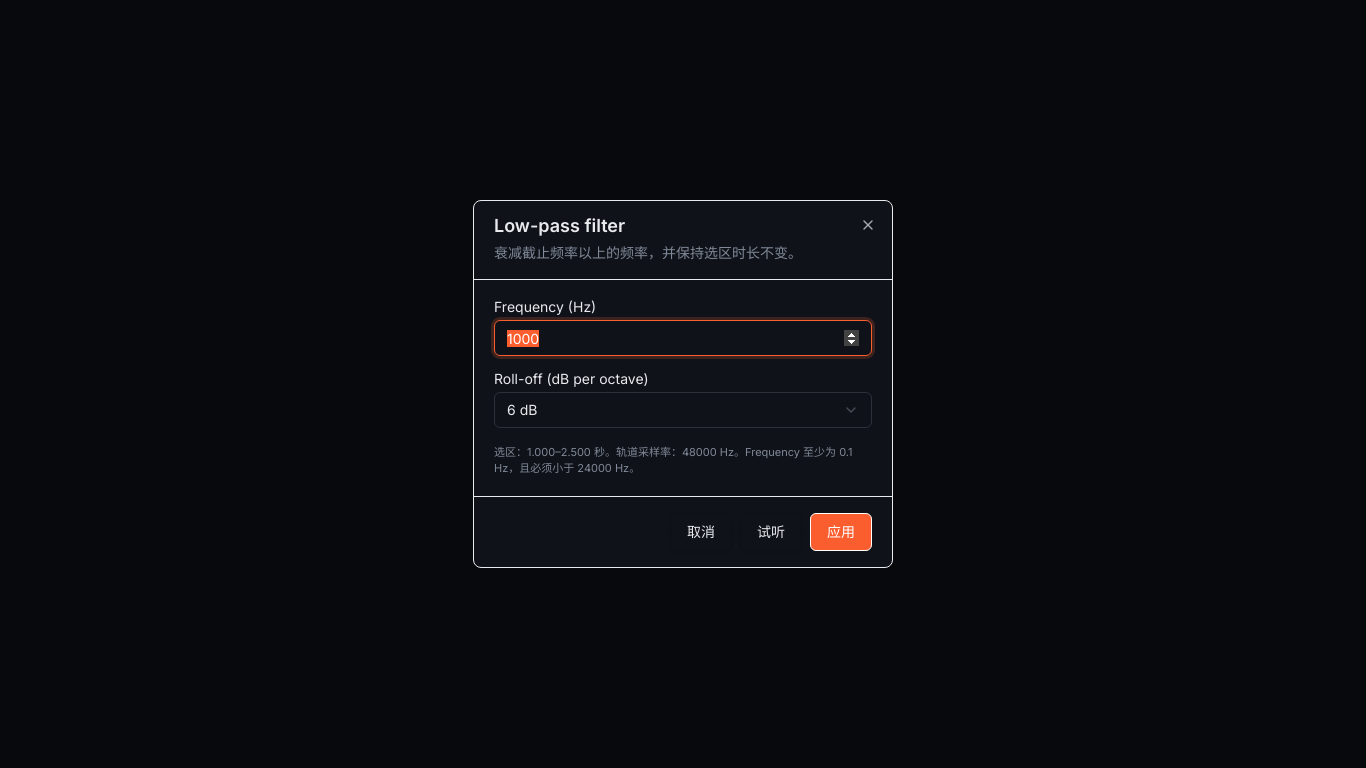
Test: PassFilterDialog › rejects invalid frequency 0.05 and disables actions
The image size is (1366, 768).
Replace the text in the number field labelled "Frequency (Hz)" with "0.05" at {"x": 683, "y": 338}, box top-left (494, 320), bottom-right (872, 356)
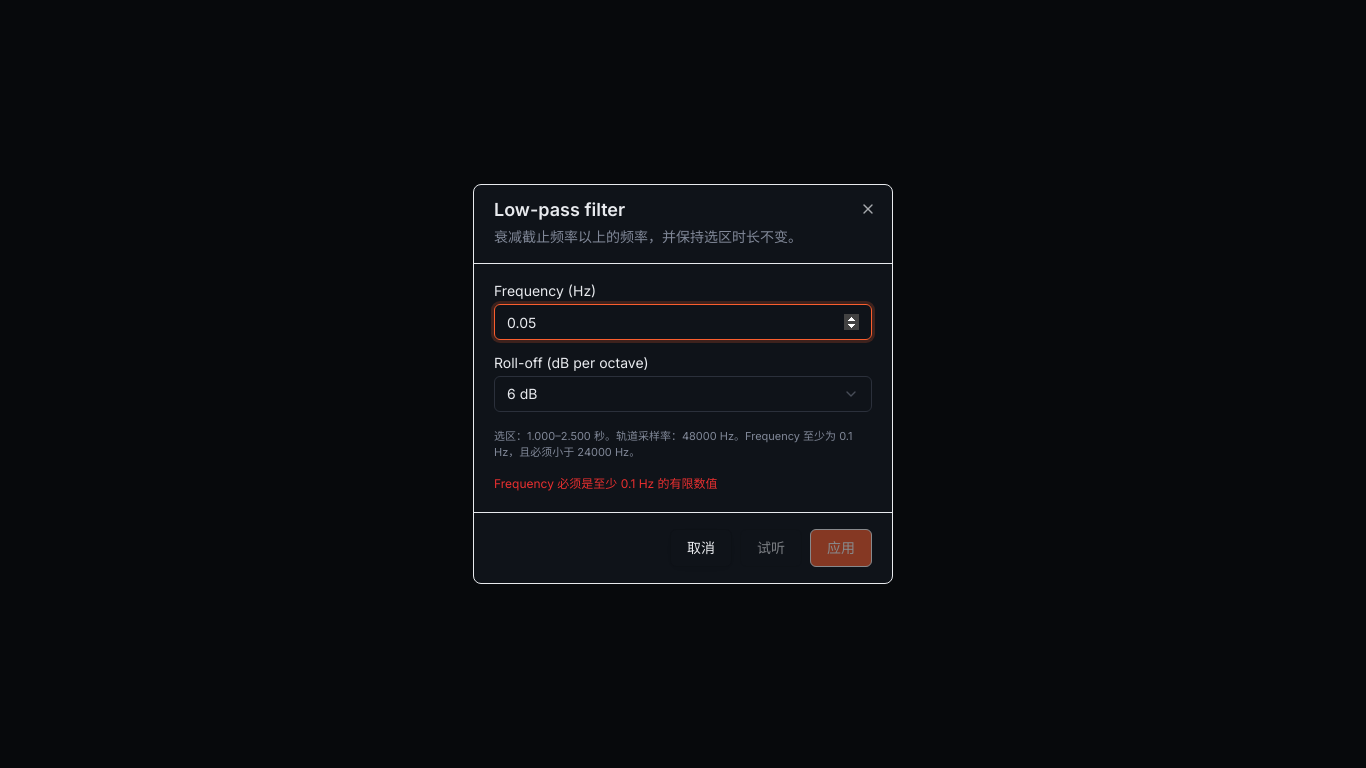
Now the message "Frequency 必须是至少 0.1 Hz 的有限数值" is shown, box top-left (494, 476), bottom-right (718, 491)
Now the button "试听" is disabled, box top-left (740, 529), bottom-right (802, 567)
Now the button "应用" is disabled, box top-left (810, 529), bottom-right (872, 567)
